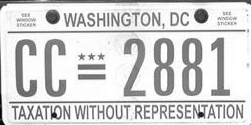1: (209, 36, 232, 98)
2: (121, 36, 148, 99)
8: (180, 36, 206, 99), (152, 36, 177, 99)
C: (12, 37, 41, 99), (44, 38, 68, 99)
